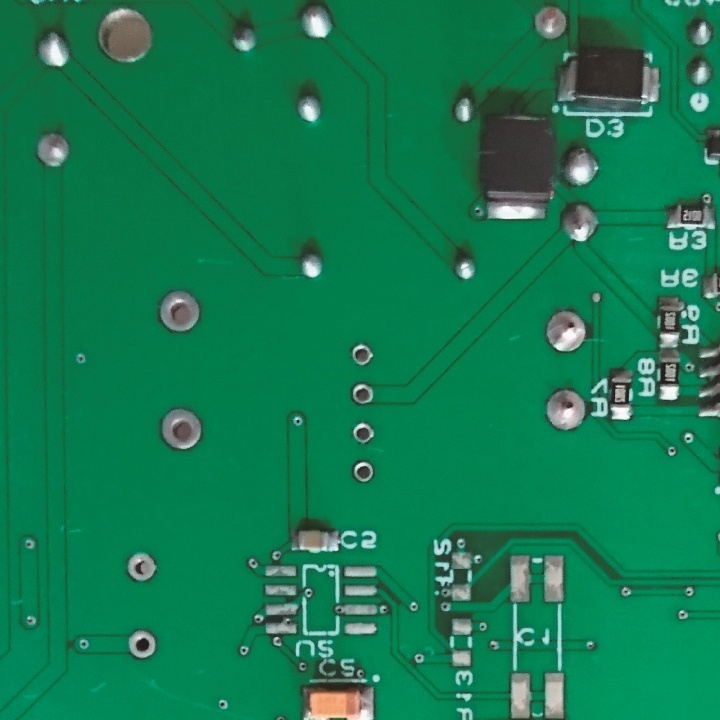F: (541, 385, 592, 433), (156, 286, 201, 340), (542, 306, 590, 356), (158, 406, 204, 455), (34, 129, 73, 174), (530, 5, 570, 43), (124, 548, 158, 584), (125, 626, 159, 659), (347, 340, 374, 372), (348, 379, 376, 407), (350, 457, 377, 486), (350, 420, 377, 446)
